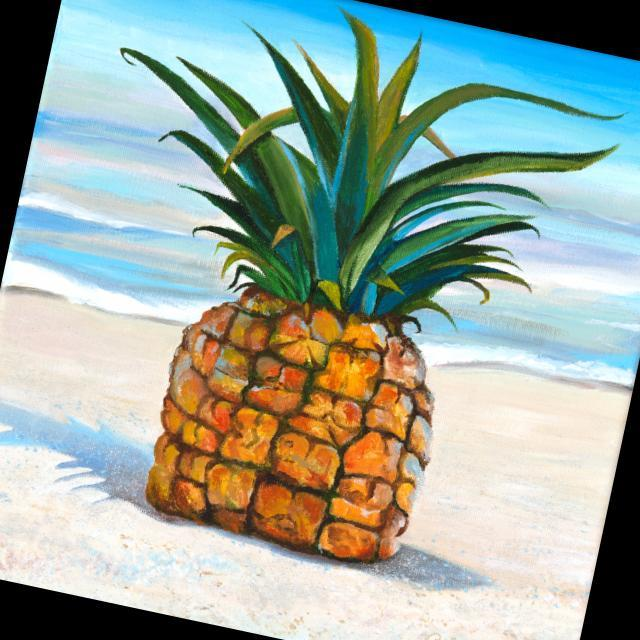PINEAPLE: (62, 0, 579, 580)
